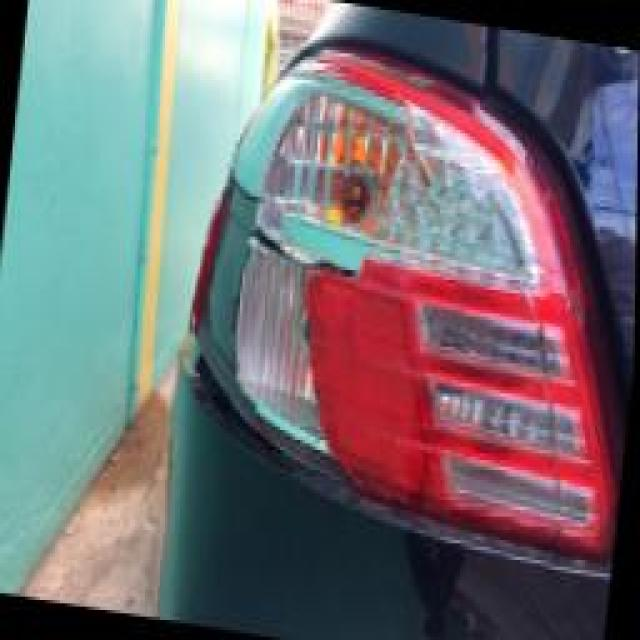Light: (150, 40, 639, 520)
